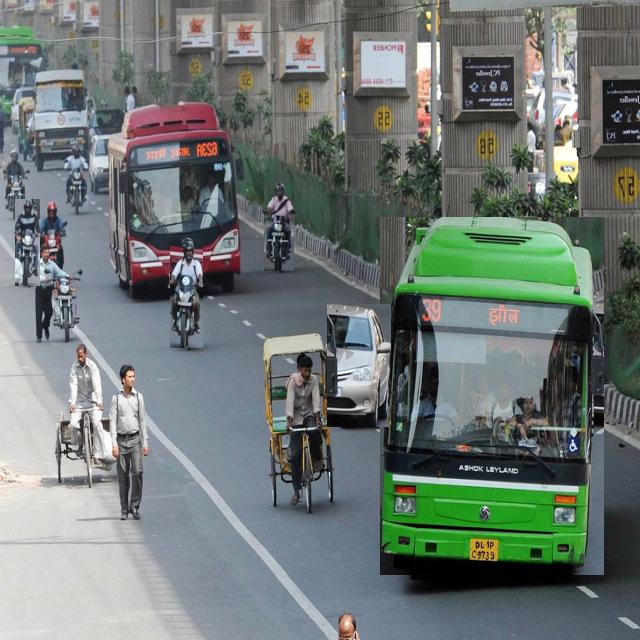bus: (380, 217, 604, 575), (110, 102, 240, 292)
car: (327, 304, 390, 427)
motorcycle: (170, 238, 202, 348), (264, 182, 294, 271), (15, 200, 40, 286), (52, 273, 80, 341), (64, 144, 88, 213), (4, 149, 26, 220)
truck: (34, 71, 89, 171)
